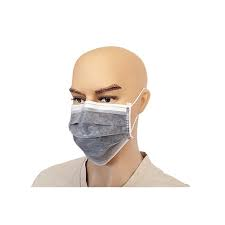mask: (57, 46, 162, 183)
